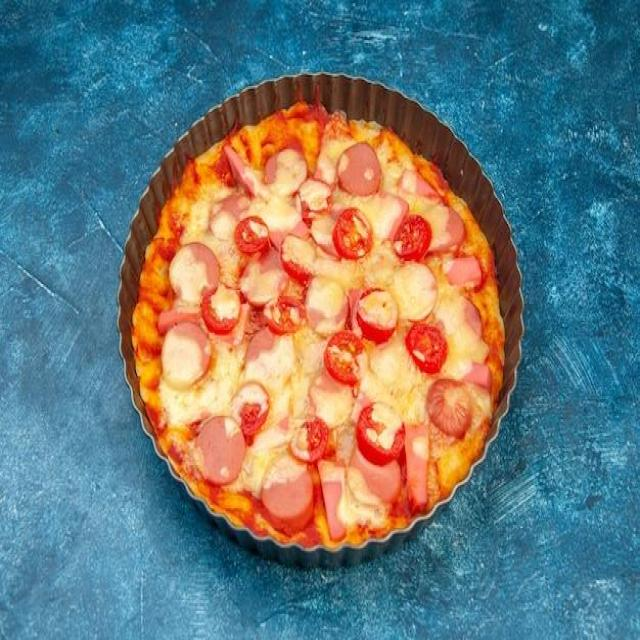pizza: (132, 101, 506, 550)
